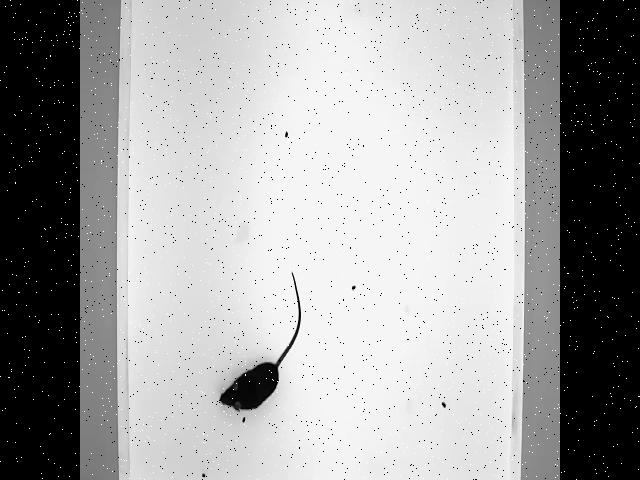Tikus: (215, 266, 305, 412)
